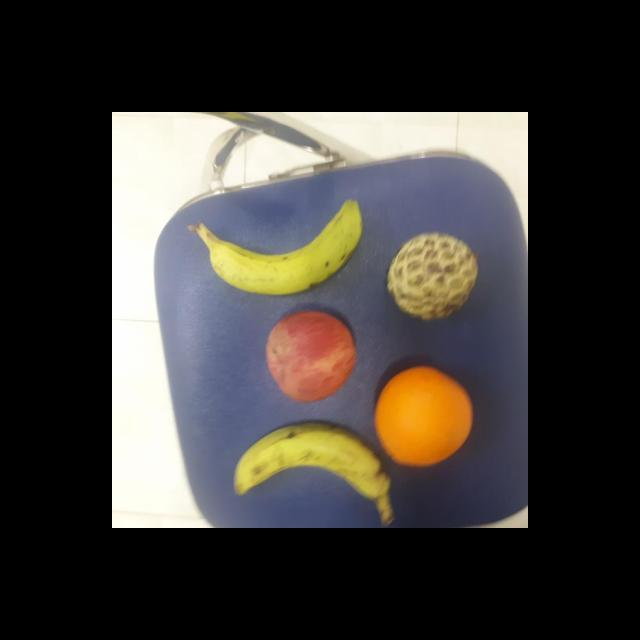Sakya fruit: (381, 227, 480, 321)
apple: (262, 310, 360, 404)
banana: (192, 200, 366, 298), (230, 418, 394, 500)
orange: (369, 364, 477, 466)
